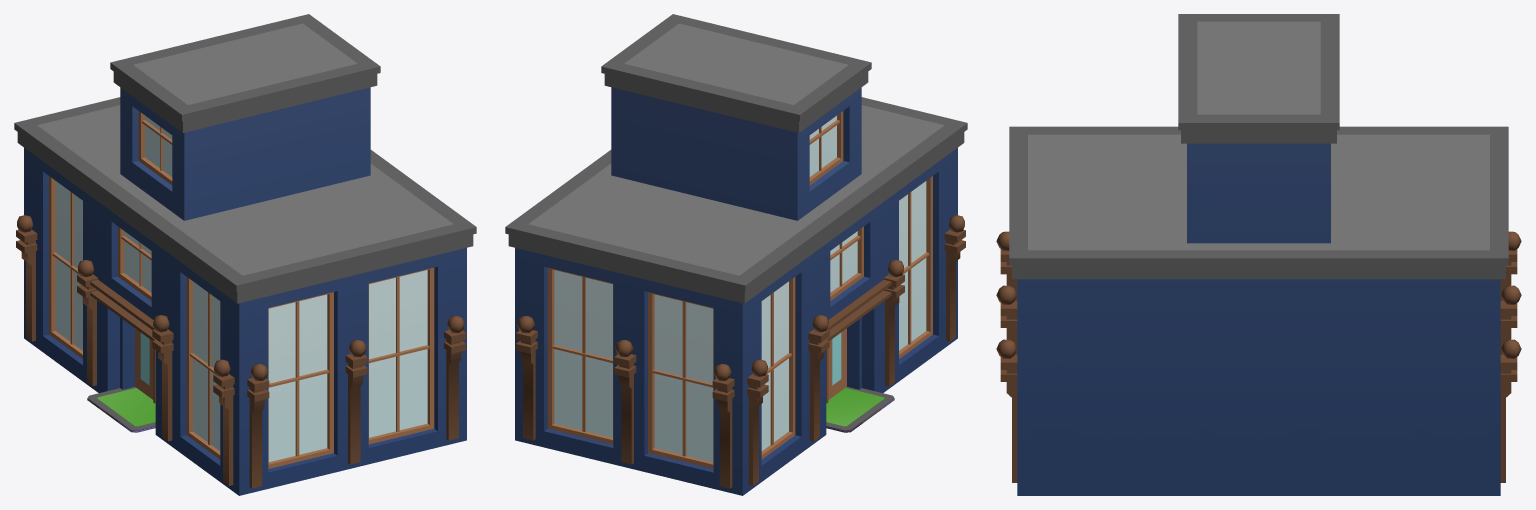
3 views of the same model, side by side, from view 1: azimuth 30°, elevation 25°; view 2: azimuth 150°, elevation 25°; view 3: azimuth 270°, elevation 25° (orthographic). The views are drawn at different scales.
Visible parts, largest first — view 1: Building_10A; view 2: Building_10A; view 3: Building_10A.
Boxes of the visible parts, left/top/right/bottom form: Building_10A: left=14, top=14, right=476, bottom=495; Building_10A: left=505, top=14, right=967, bottom=495; Building_10A: left=996, top=14, right=1521, bottom=495.
Bounding box in the file's own units: 16309 × 19771 × 25767.
